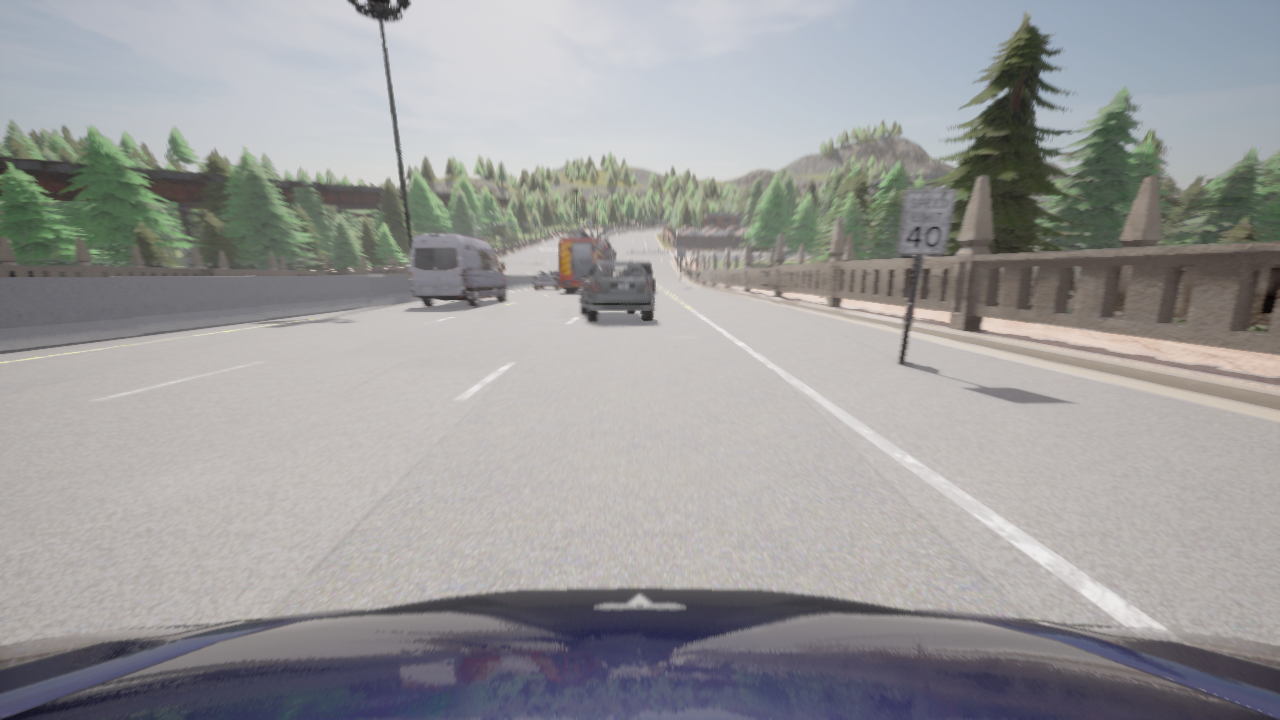cyclist: (0, 588, 1279, 719), (410, 234, 506, 306), (580, 260, 653, 321), (559, 230, 615, 292), (534, 270, 563, 289), (637, 262, 655, 292)
pedestrian: (820, 295, 821, 297)
